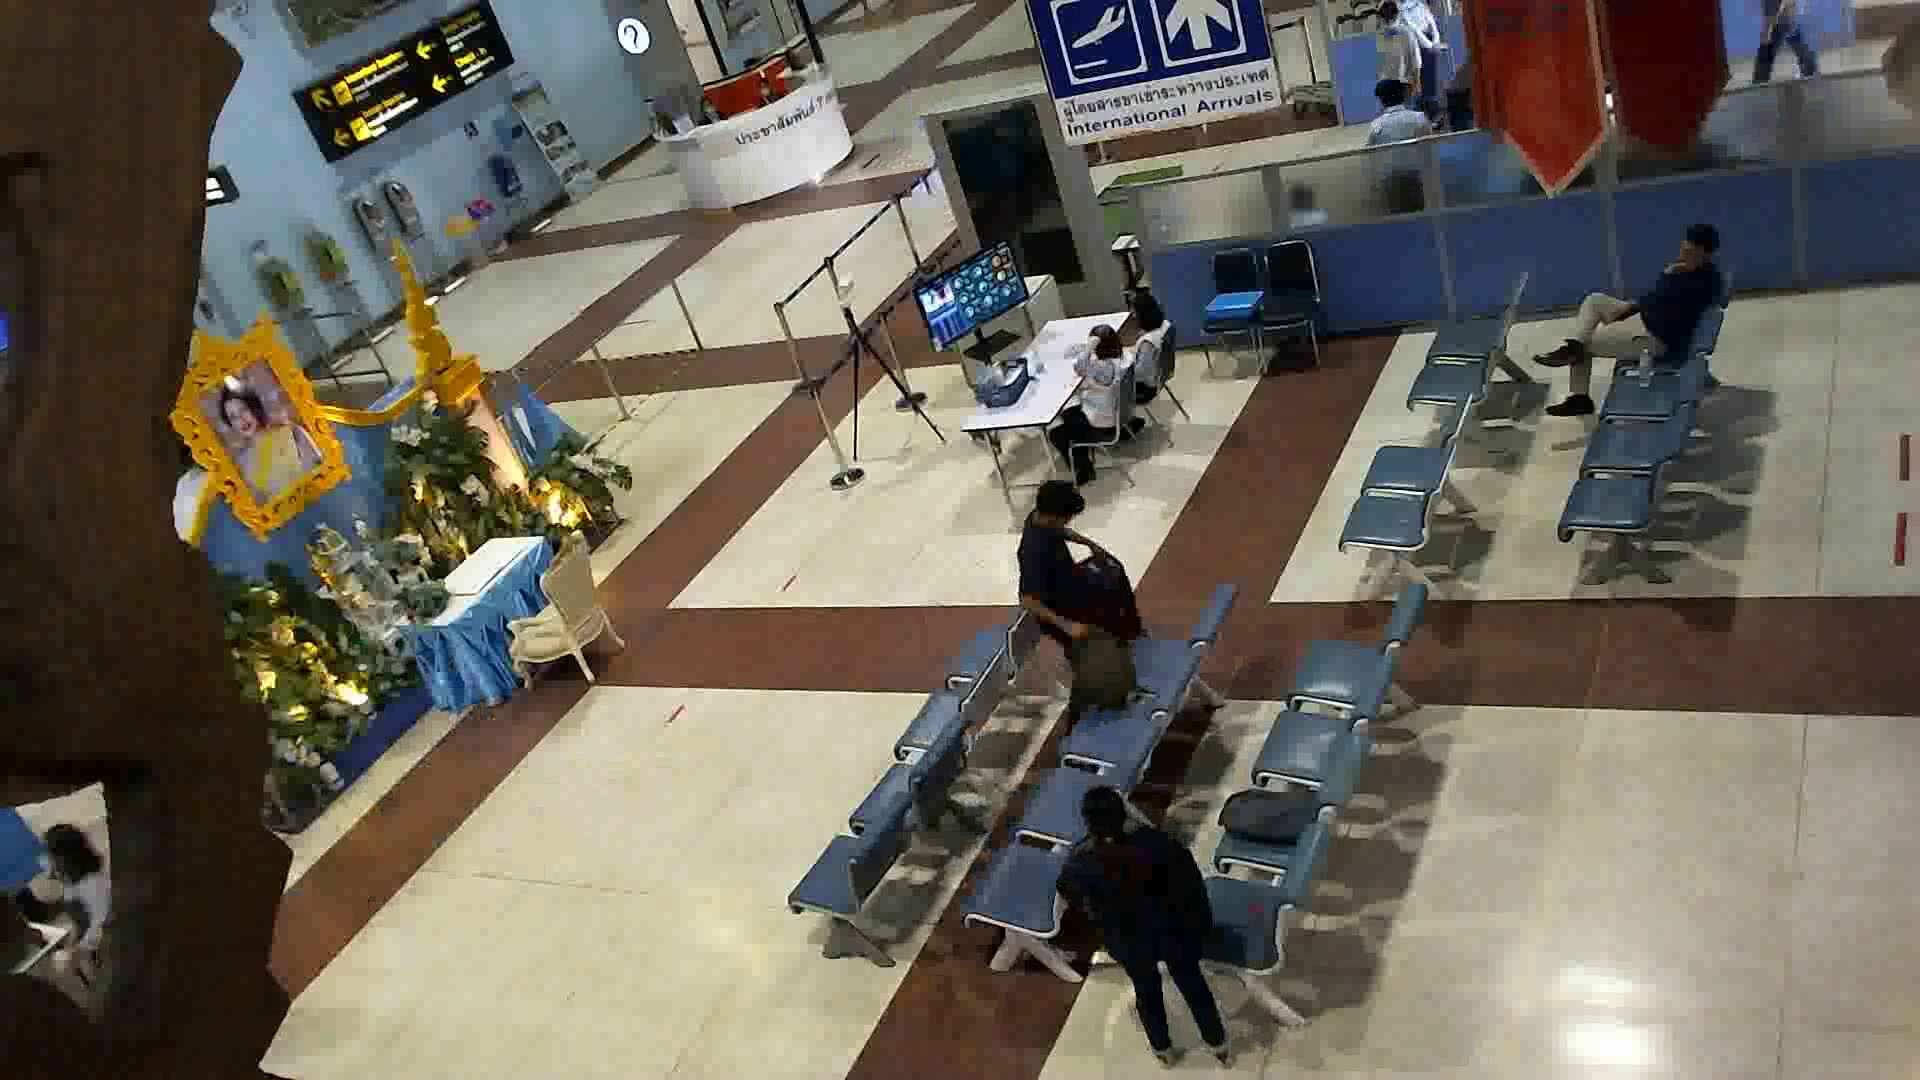backpack: (1220, 770, 1339, 838), (1060, 628, 1143, 718)
luggage: (1074, 551, 1149, 641)
people: (1053, 790, 1233, 1072), (1547, 209, 1728, 426), (1016, 474, 1141, 757), (1054, 328, 1128, 465), (1118, 290, 1176, 405)
